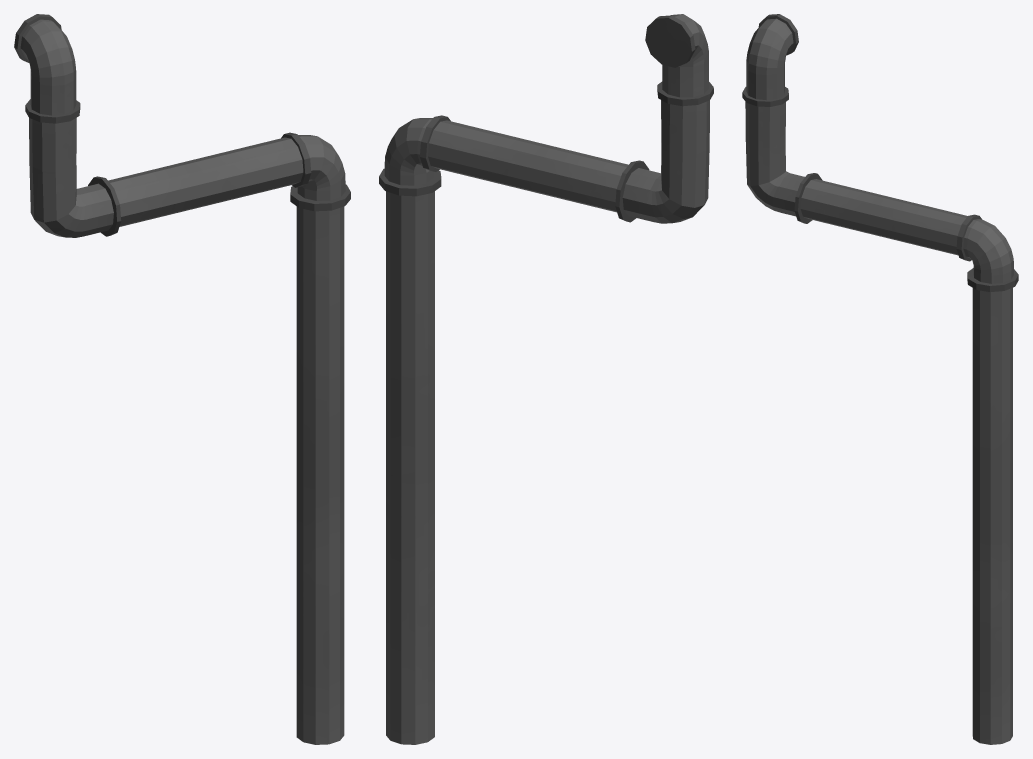
Rendered from pipes_withUV_2st.fbx.
The picture shows the model from 3 angles, left to right: view 1: azimuth 30°, elevation 25°; view 2: azimuth 150°, elevation 25°; view 3: azimuth 330°, elevation 25°; orthographic projection. The views are drawn at different scales.
Parts seen in each view (by area): view 1: Cylinder.001, Cylinder.003, Cylinder.004, Cylinder.005, Cylinder.002; view 2: Cylinder.001, Cylinder.003, Cylinder.004, Cylinder.005, Cylinder.002; view 3: Cylinder.001, Cylinder.003, Cylinder.004, Cylinder.005, Cylinder.002.
Part boxes in pixels (x1,y1,x2,y2): Cylinder.001: [290, 184, 350, 744]; Cylinder.003: [88, 137, 303, 236]; Cylinder.004: [25, 99, 113, 237]; Cylinder.005: [14, 14, 76, 115]; Cylinder.002: [281, 132, 345, 200]; Cylinder.001: [379, 168, 441, 744]; Cylinder.003: [428, 120, 649, 222]; Cylinder.004: [622, 81, 713, 223]; Cylinder.005: [645, 14, 708, 97]; Cylinder.002: [384, 115, 450, 185]; Cylinder.001: [967, 268, 1018, 744]; Cylinder.003: [794, 173, 967, 255]; Cylinder.004: [742, 87, 804, 216]; Cylinder.005: [746, 14, 798, 100]; Cylinder.002: [956, 214, 1013, 283].
Bounding box in the file's own units: 336 × 783 × 57.73.
